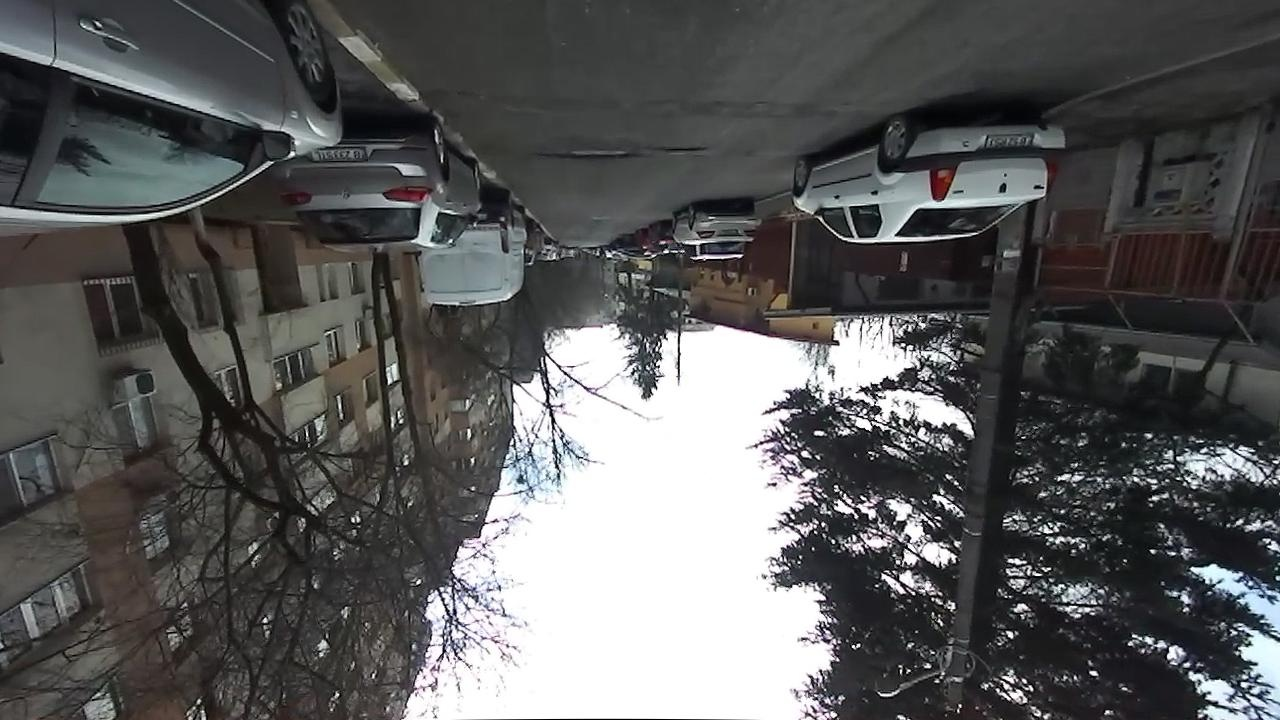pothole: (531, 142, 635, 162), (649, 142, 706, 153)
